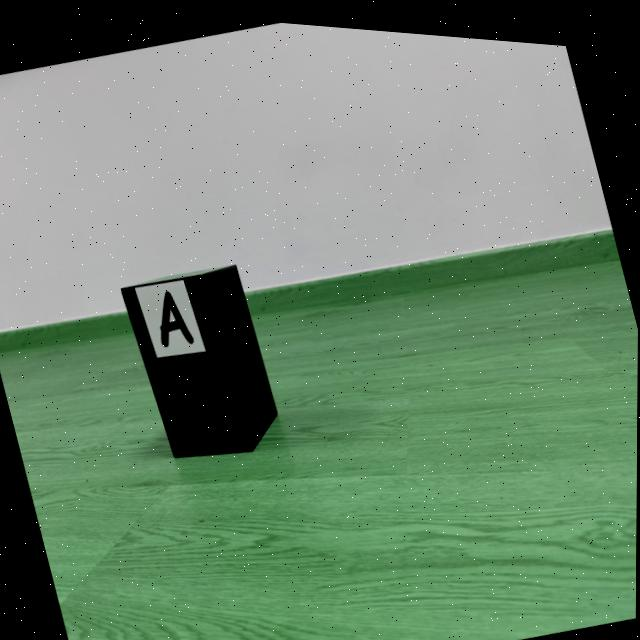A: (160, 287, 194, 344)
